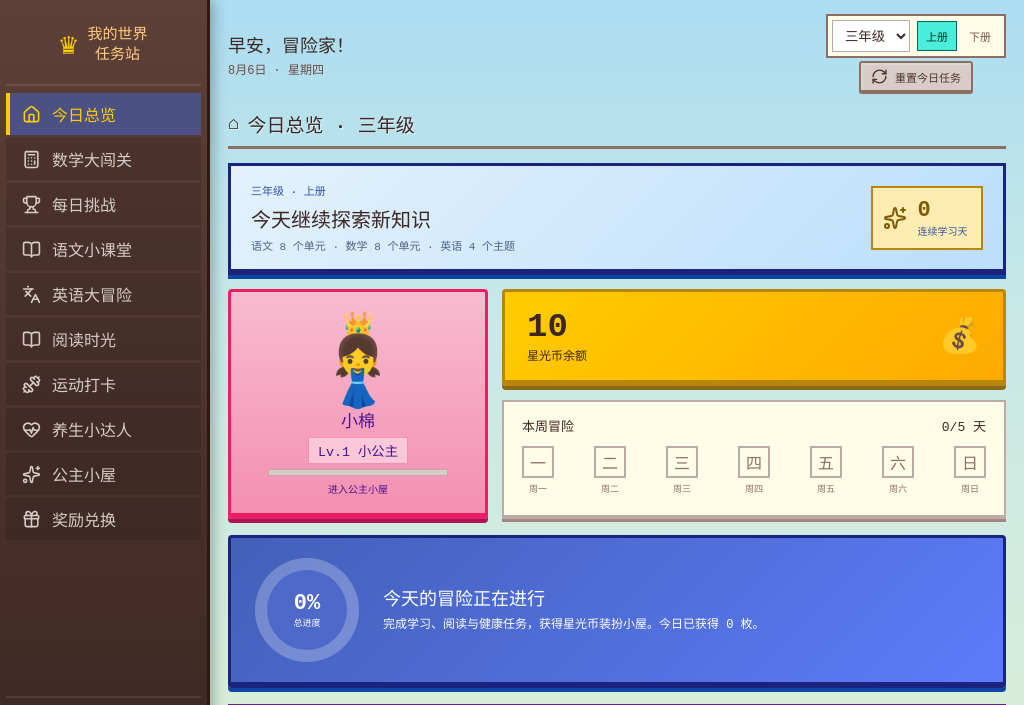
Scenario: application shell › switches the global grade and updates subject content
Select "六年级" in the dropdown named "选择年级": point(871, 36) [832,20,910,52]
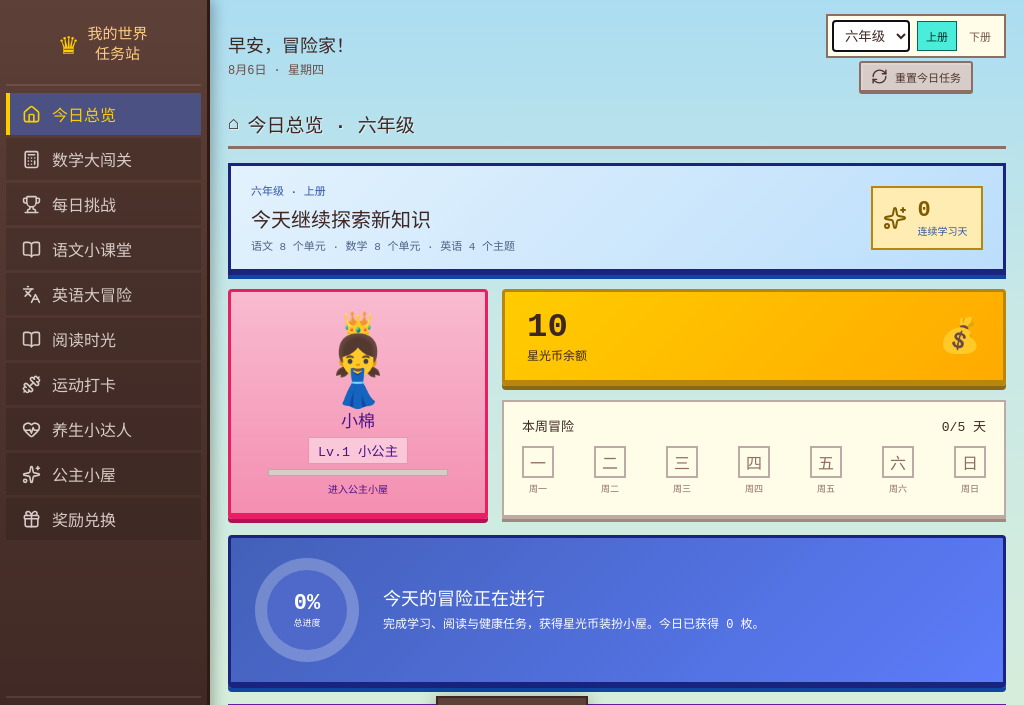
Result: the heading "⌂ 今日总览 · 六年级" is shown at [228,110,1006,149]
Click the button "数学大闯关": point(104, 159) [6,138,201,180]
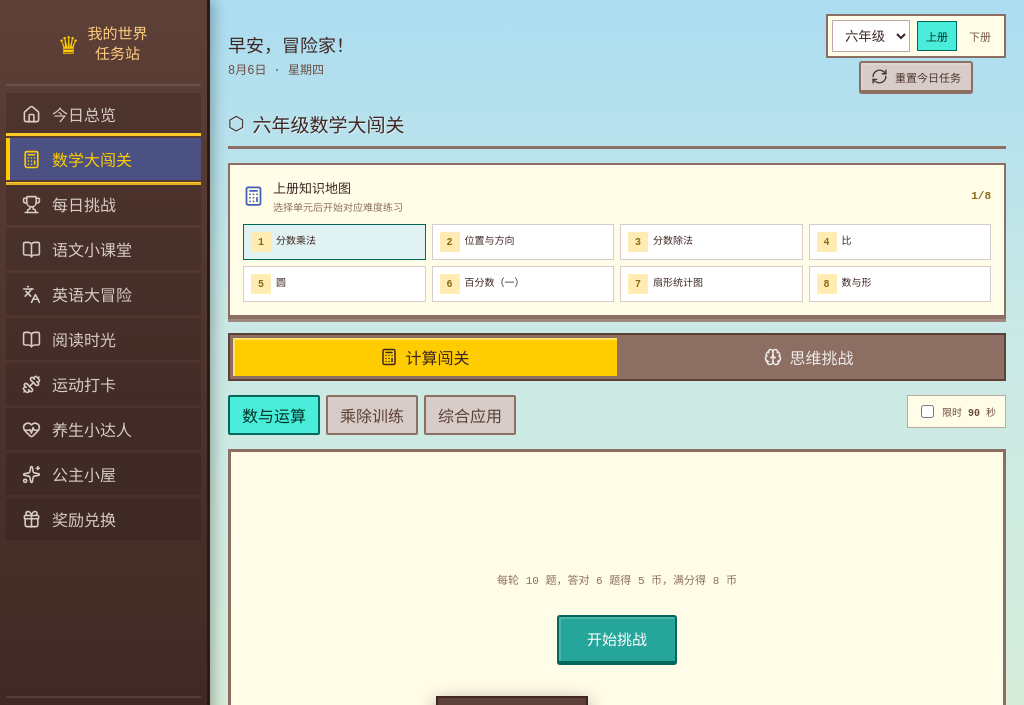
Result: the heading "⬡ 六年级数学大闯关" is shown at [228,110,1006,149]
Result: the text "分数乘法" is shown at [276,236,316,247]
